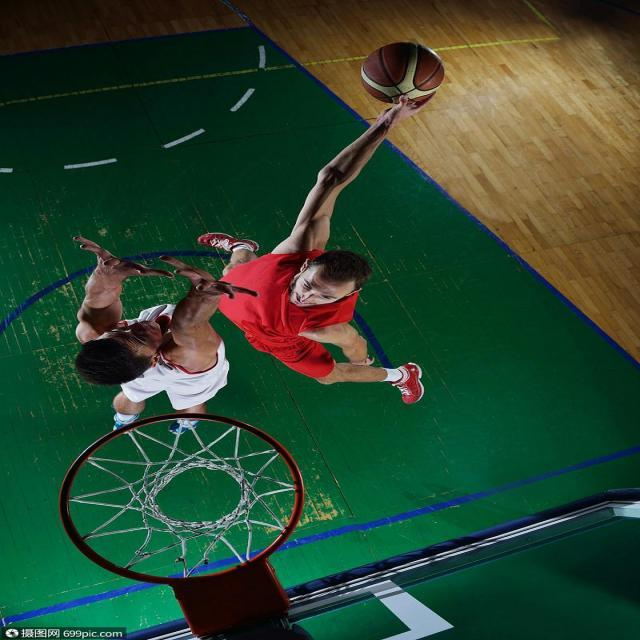rim: (363, 44, 443, 108)
